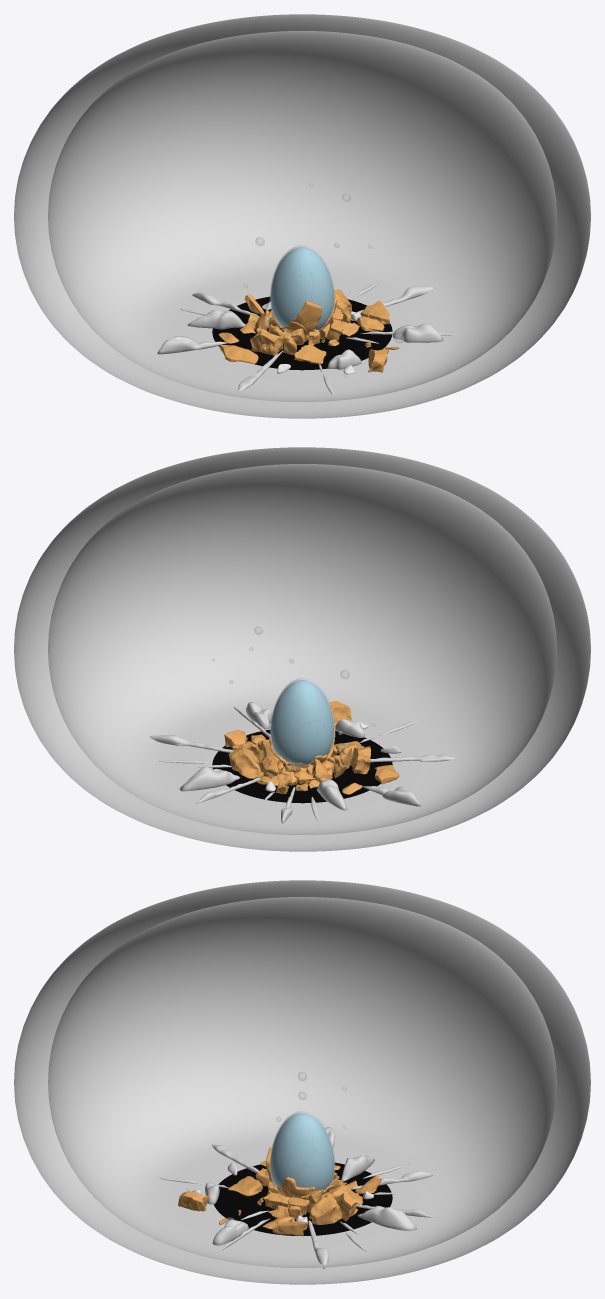
File: PXLs_egg340.glb
3 renders of one model, top to bottom at view 1: azimuth 30°, elevation 25°; view 2: azimuth 150°, elevation 25°; view 3: azimuth 270°, elevation 25°, orthographic.
Parts seen in each view (by area): view 1: innerCylinder, outerCylinder, rockDebris, smoke4, smoke3, crackedEgg, floorBase, brokenEggCrust, pinkGooBlob7, pinkGooBlob5, pinkGooStreak13; view 2: innerCylinder, outerCylinder, rockDebris, smoke4, smoke3, crackedEgg, floorBase, pinkGooBlob8, pinkGooStreak13, pinkGooBlob7, pinkGooStreak6; view 3: innerCylinder, outerCylinder, rockDebris, smoke4, smoke3, crackedEgg, floorBase, pinkGooBlob8, brokenEggCrust, pinkGooBlob5, pinkGooBlob7.
Part boxes in pixels (left/top/right/bottom): innerCylinder: left=48, top=31, right=556, bottom=401; outerCylinder: left=14, top=14, right=590, bottom=418; rockDebris: left=220, top=289, right=389, bottom=372; smoke4: left=270, top=245, right=334, bottom=330; smoke3: left=270, top=246, right=334, bottom=329; crackedEgg: left=271, top=247, right=333, bottom=329; floorBase: left=212, top=296, right=392, bottom=370; brokenEggCrust: left=272, top=297, right=337, bottom=335; pinkGooBlob7: left=187, top=309, right=245, bottom=329; pinkGooBlob5: left=392, top=323, right=443, bottom=342; pinkGooStreak13: left=157, top=336, right=227, bottom=354; innerCylinder: left=48, top=464, right=556, bottom=834; outerCylinder: left=14, top=447, right=590, bottom=851; rockDebris: left=224, top=701, right=399, bottom=793; smoke4: left=270, top=678, right=334, bottom=767; smoke3: left=270, top=679, right=334, bottom=767; crackedEgg: left=271, top=680, right=333, bottom=764; floorBase: left=212, top=729, right=392, bottom=803; pinkGooBlob8: left=179, top=766, right=240, bottom=791; pinkGooStreak13: left=362, top=786, right=421, bottom=806; pinkGooBlob7: left=316, top=779, right=347, bottom=810; pinkGooStreak6: left=149, top=735, right=233, bottom=752; innerCylinder: left=48, top=897, right=556, bottom=1267; outerCylinder: left=14, top=880, right=590, bottom=1284; rockDebris: left=178, top=1156, right=381, bottom=1235; smoke4: left=270, top=1111, right=335, bottom=1190; smoke3: left=270, top=1112, right=334, bottom=1189; crackedEgg: left=271, top=1113, right=333, bottom=1190; floorBase: left=214, top=1162, right=392, bottom=1235; pinkGooBlob8: left=357, top=1205, right=416, bottom=1231; brokenEggCrust: left=266, top=1147, right=333, bottom=1198; pinkGooBlob5: left=212, top=1219, right=248, bottom=1245; pinkGooBlob7: left=341, top=1155, right=374, bottom=1180.
Bounding box in the file's own units: 16.7 × 7.8 × 16.7.
8 materials, 2 textured.
